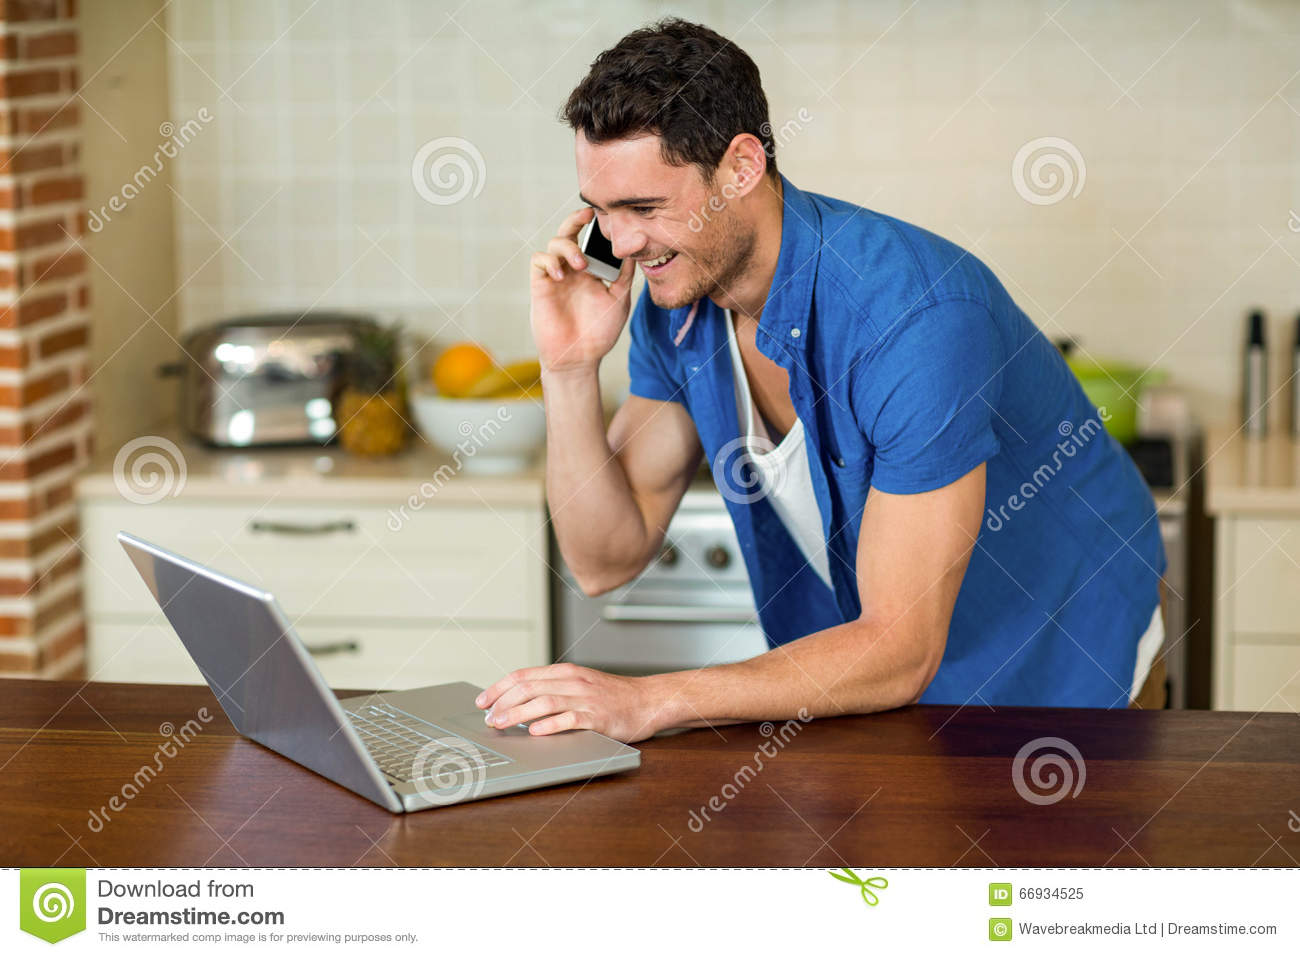phone: (575, 212, 633, 289)
talk: (530, 173, 695, 394)
